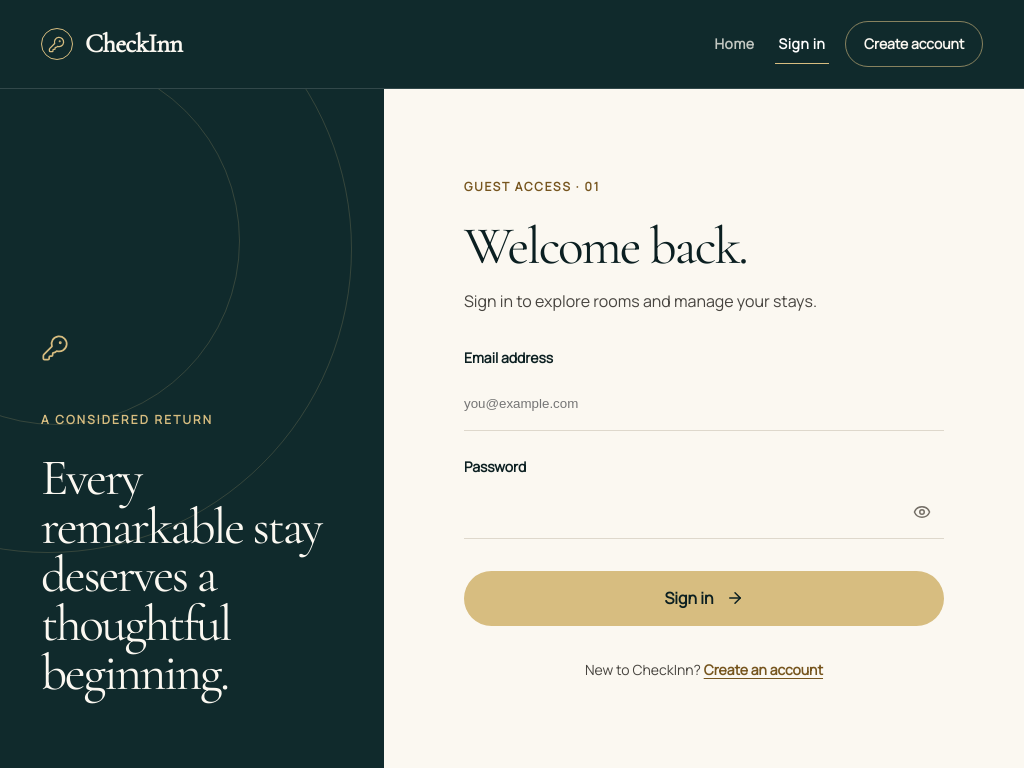
it: authentication routes › signs in and returns to the protected destination
Type "avery@example.com" into the field labelled "Email address". click: (704, 404)
box: [464,377,944,431]
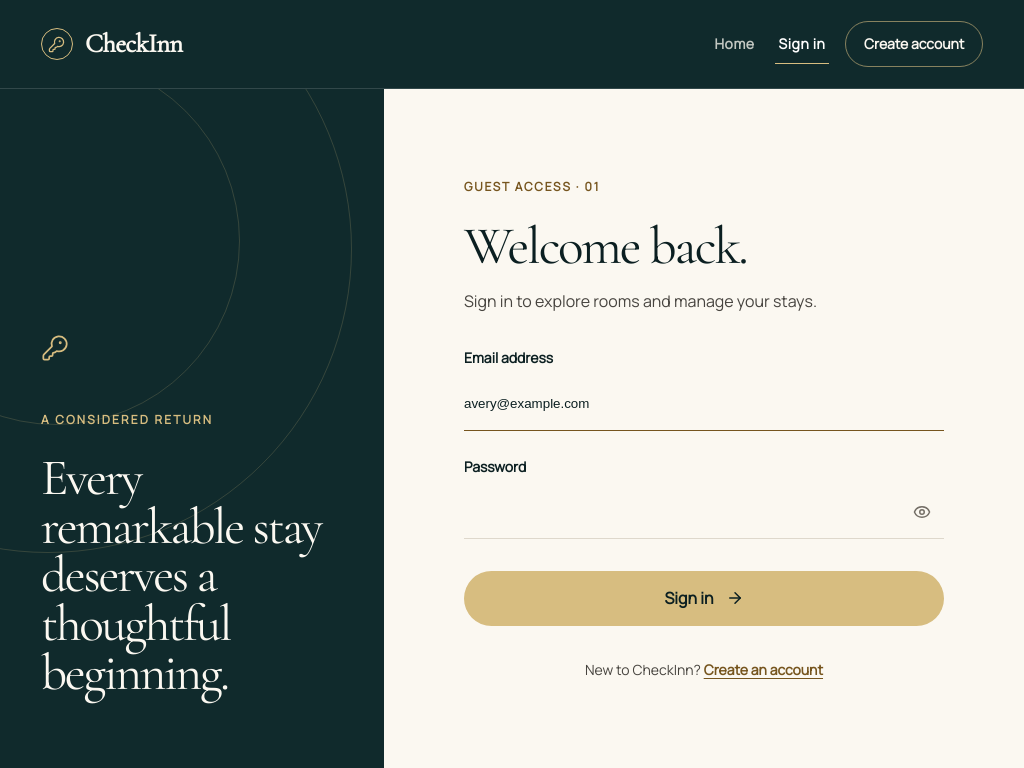
Type "Password123!" into the password field labelled "Password". click: (704, 512)
box: [464,486,944,539]
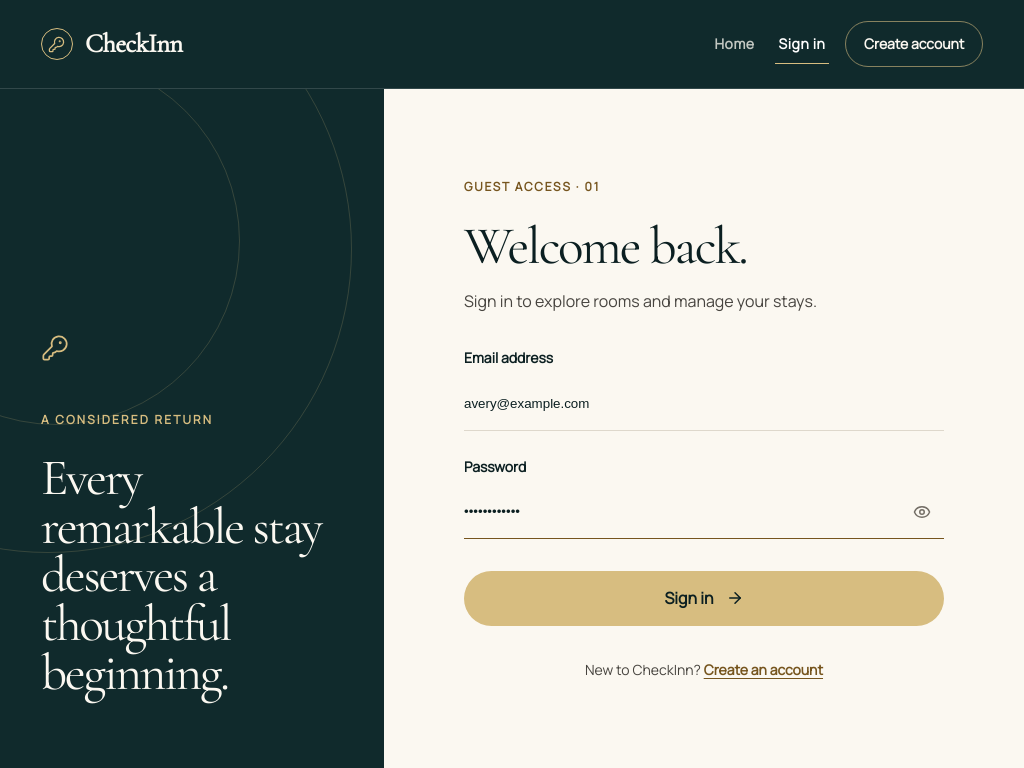
Click the button "Sign in". click: click(704, 598)
box: [464,571,944,626]
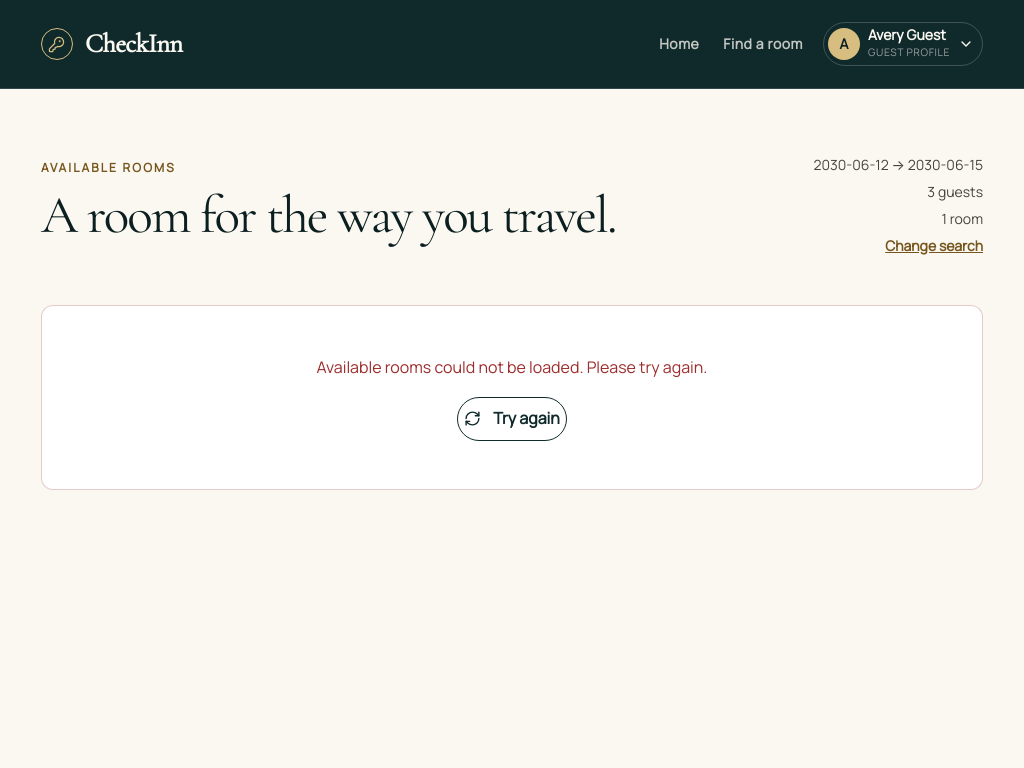
Result: the heading "A room for the way you travel." is shown at [41,183,616,247]
Result: the text "Avery Guest" is shown at [868,27,950,44]
